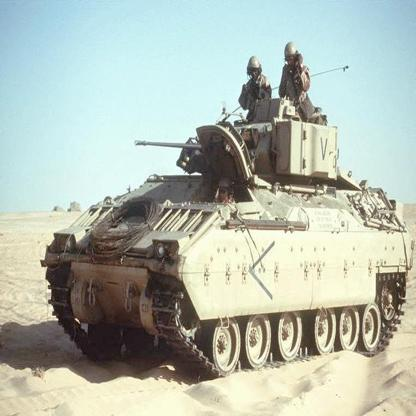Tank: (47, 97, 414, 375)
